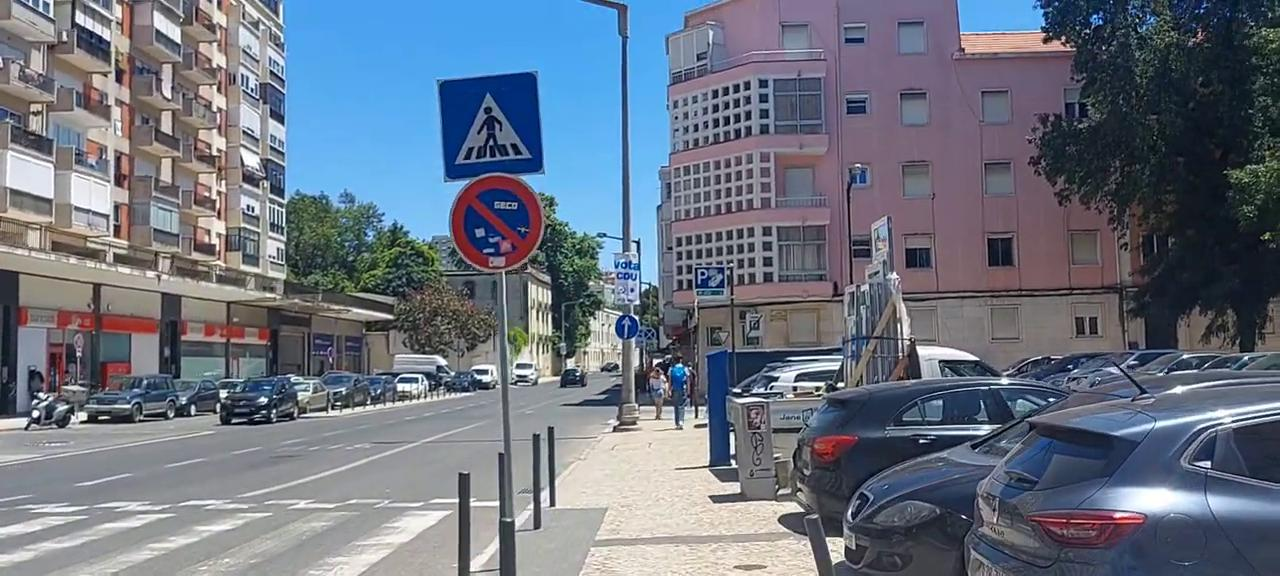estacionamento proibido: (449, 174, 548, 275)
passagem para peoes: (435, 70, 548, 180)
